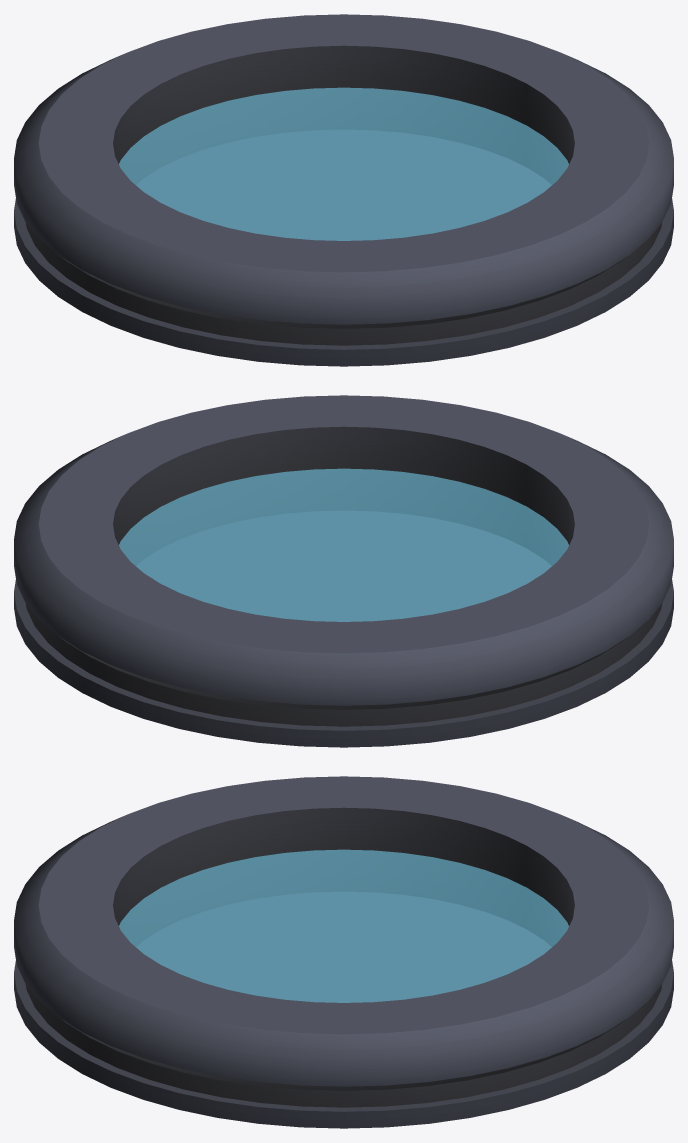
The model's file is fountain-round.glb.
The picture shows the model from 3 angles, top to bottom: view 1: azimuth 30°, elevation 25°; view 2: azimuth 150°, elevation 25°; view 3: azimuth 270°, elevation 25°; orthographic projection.
Visible parts, largest first — view 1: fountain-round, (_ignore); view 2: fountain-round, (_ignore); view 3: fountain-round, (_ignore).
Boxes of the visible parts, x1,y1,x2,y2 form: fountain-round: [14, 14, 673, 366]; (_ignore): [119, 87, 568, 240]; fountain-round: [14, 395, 673, 747]; (_ignore): [119, 468, 568, 621]; fountain-round: [14, 776, 673, 1128]; (_ignore): [119, 849, 568, 1002].
Size of the model in its own units: 2 by 0.28 by 2.
Materials: 2 (1 with a texture image).
